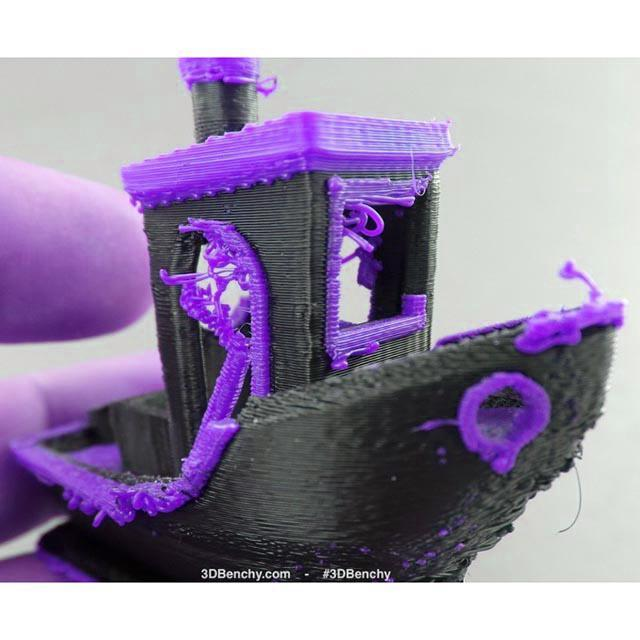Spaghetti: (154, 211, 258, 355), (58, 478, 168, 531), (332, 188, 390, 268)
